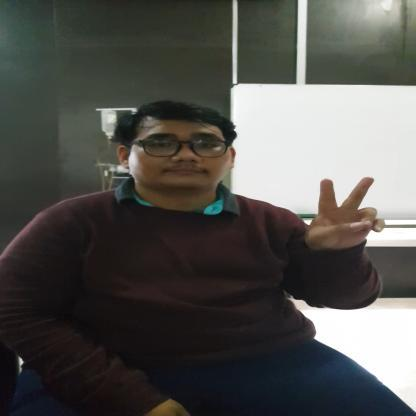V: (301, 175, 386, 250)
